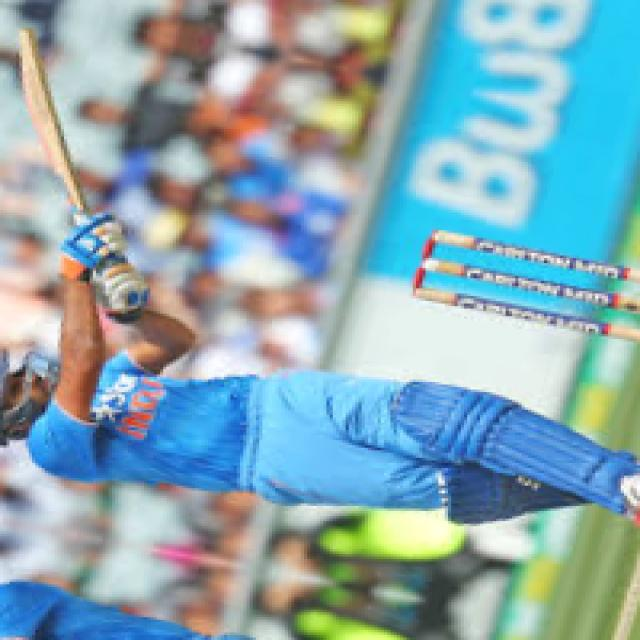toe: (9, 23, 42, 52)
